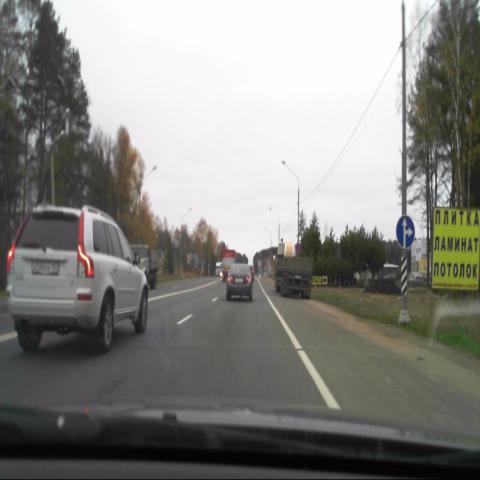4_1_4: (395, 214, 415, 249)
